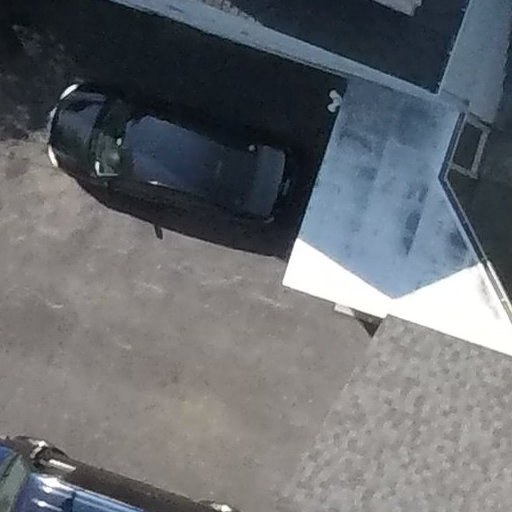car: (32, 54, 303, 255)
